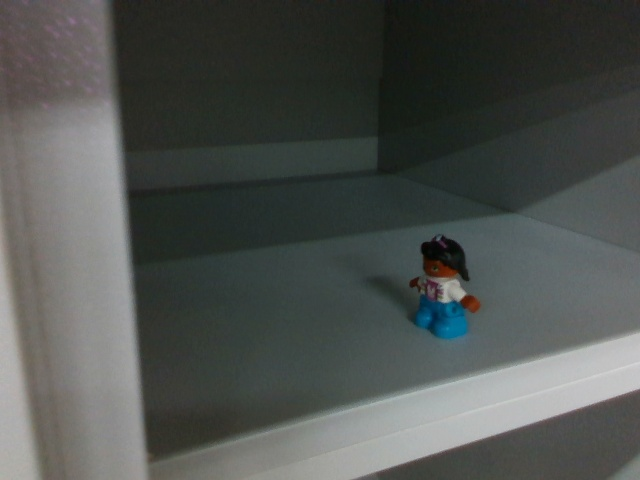people: (408, 235, 482, 344)
